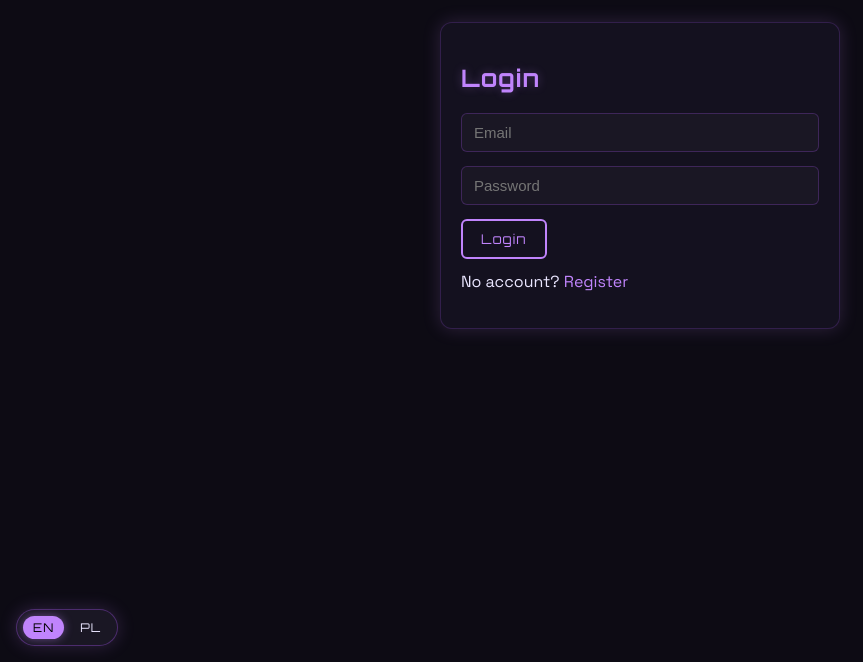
Test: LoginPage › shows an error when login fails
The width and height of the screenshot is (863, 662).
Step 1. Type "user@example.com" into the field with placeholder "Email" → point(640, 132), box [461, 113, 819, 152]
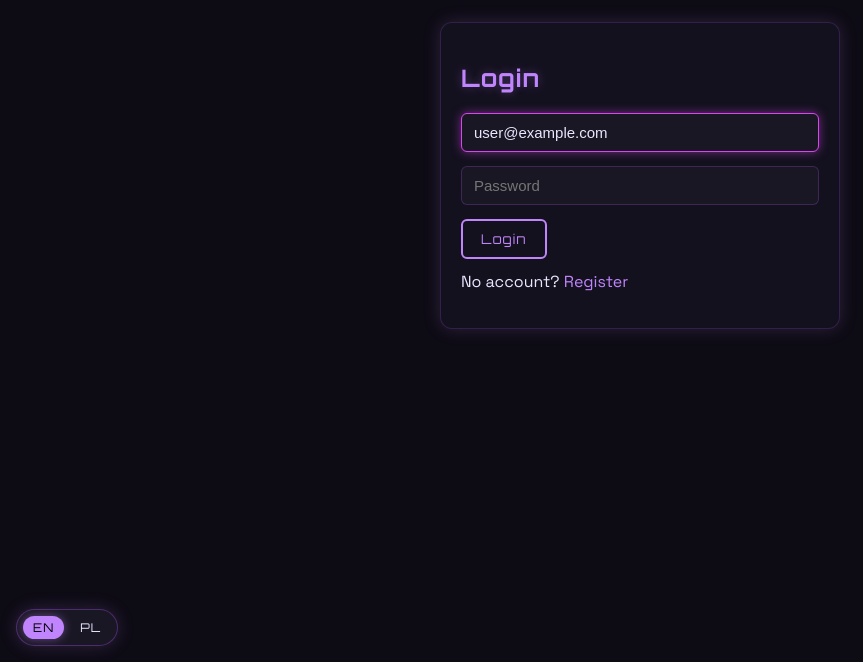
Step 2. Type "Secret123!" into the password field with placeholder "Password" → point(640, 185), box [461, 166, 819, 205]
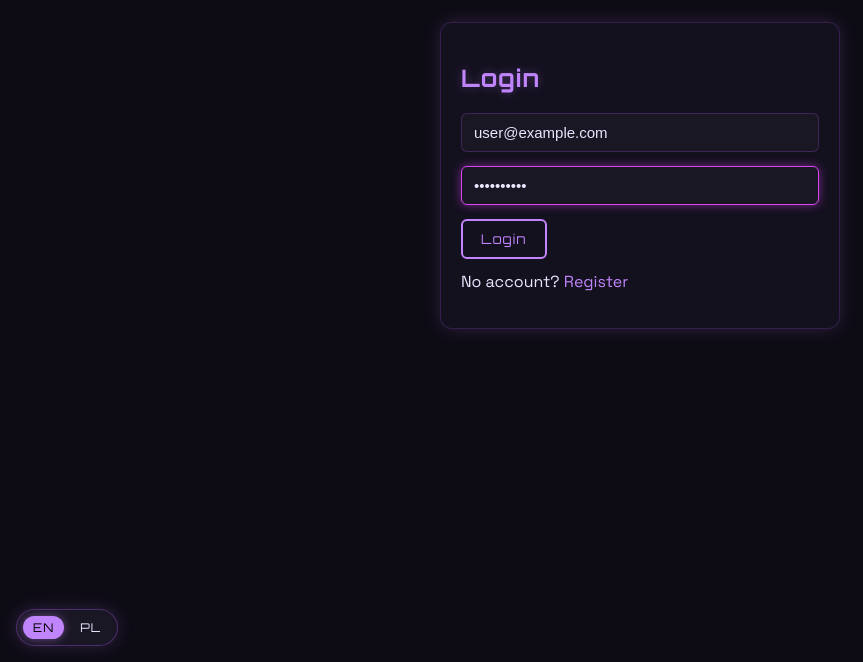
Step 3. Click the button "Login" → point(504, 239), box [461, 219, 547, 259]
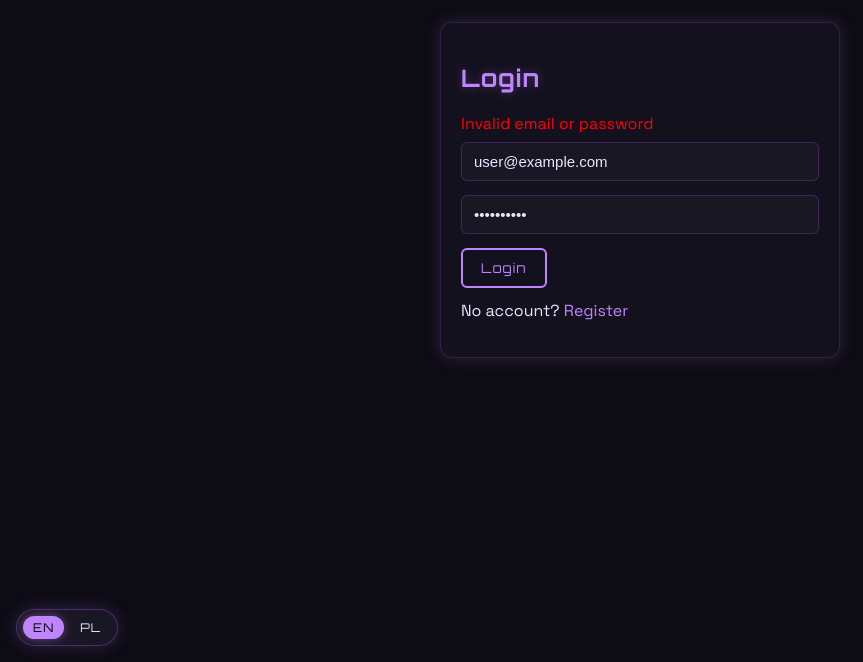
Now the text "Invalid email or password" is shown, box [461, 113, 654, 134]
